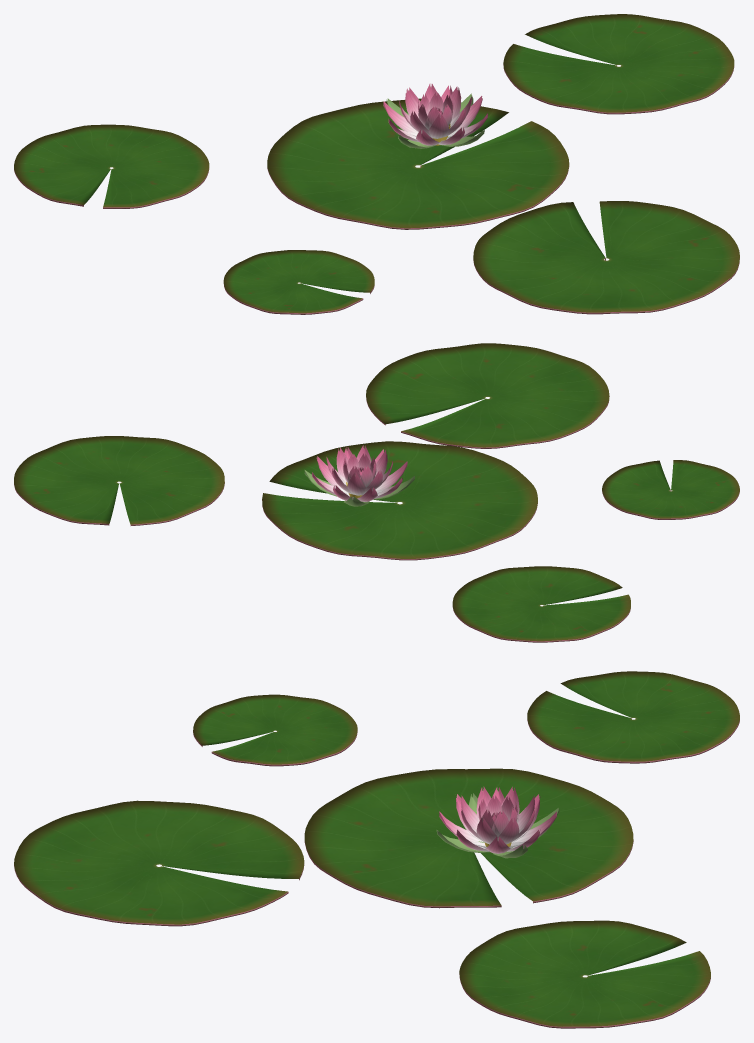
Rendered from lily-pads.glb.
3 renders of one model, top to bottom at view 1: azimuth 30°, elevation 25°; view 2: azimuth 150°, elevation 25°; view 3: azimuth 270°, elevation 25°, orthographic. The views are drawn at different scales.
Visible parts, largest first — view 1: lily_pad_01, lily_pad_04, lily_pad_02, lily_pad_03, lily_pad_05, lily_flower_01; view 2: lily_pad_01, lily_pad_04, lily_pad_02, lily_pad_03, lily_pad_05, lily_flower_01; view 3: lily_pad_01, lily_pad_04, lily_pad_02, lily_pad_03, lily_pad_05, lily_flower_01.
Part boxes in pixels (x1,y1,x2,y2): lily_pad_01: (267,98,569,229); lily_pad_04: (473,201,739,314); lily_pad_02: (503,14,734,114); lily_pad_03: (14,124,209,208); lily_pad_05: (223,250,374,314); lily_flower_01: (383,83,487,148); lily_pad_01: (262,441,537,560); lily_pad_04: (366,343,609,448); lily_pad_02: (14,436,224,525); lily_pad_03: (452,566,630,642); lily_pad_05: (602,460,739,519); lily_flower_01: (304,445,414,506); lily_pad_01: (304,768,633,908); lily_pad_04: (14,800,304,926); lily_pad_02: (459,920,710,1028); lily_pad_03: (527,671,739,763); lily_pad_05: (193,694,357,766); lily_flower_01: (436,786,559,858).
Bounding box in the file's own units: 0.87 × 0.0681 × 0.7499.
Materials: 5 (2 with a texture image).
